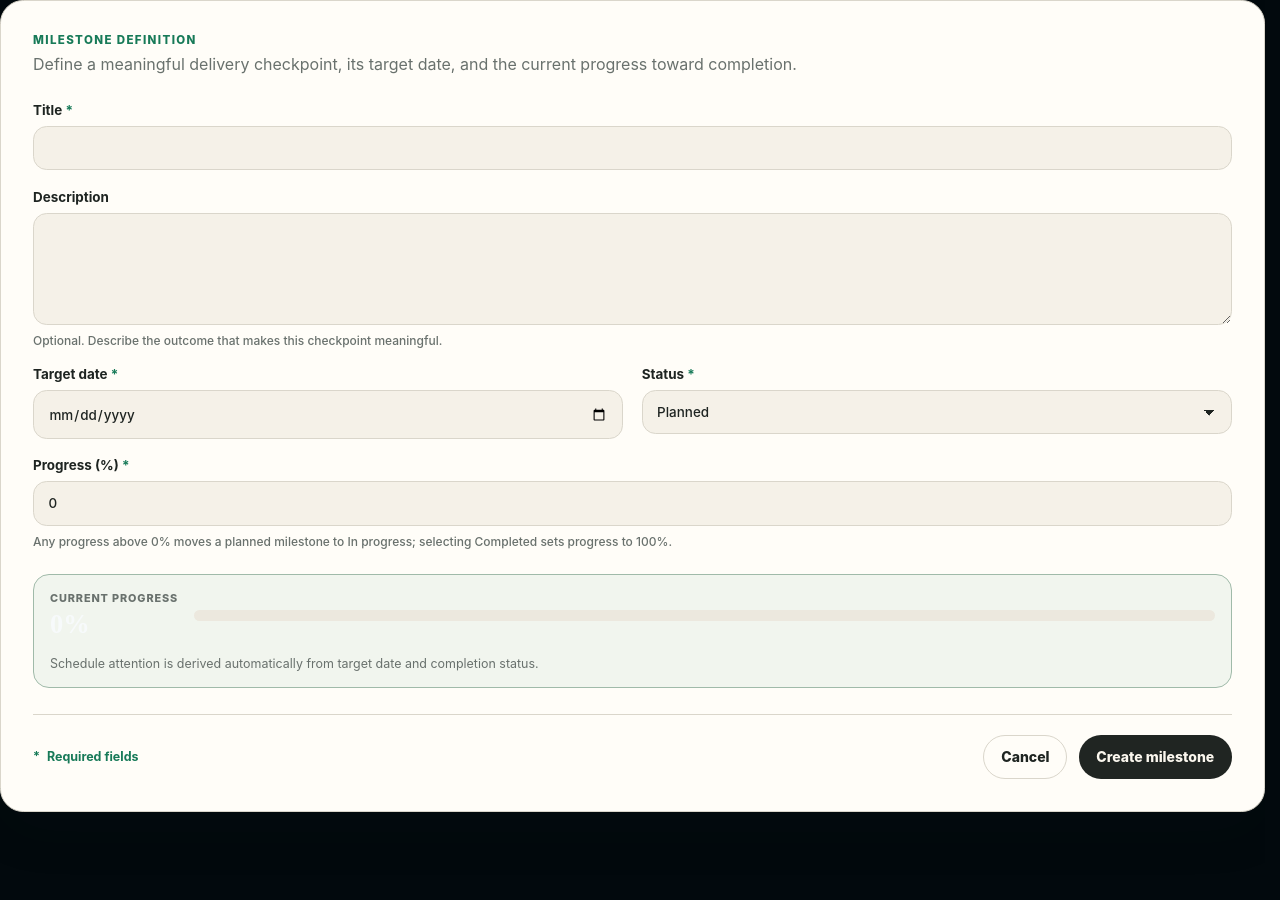
Test case: MilestoneForm › keeps milestone status synchronized with progress
Check: the dropdown labelled "Status *" shows "Planned", box [642, 390, 1232, 434]
Replace the text in the number field labelled "Progress" with "35" at (632,504), box [33, 481, 1232, 526]
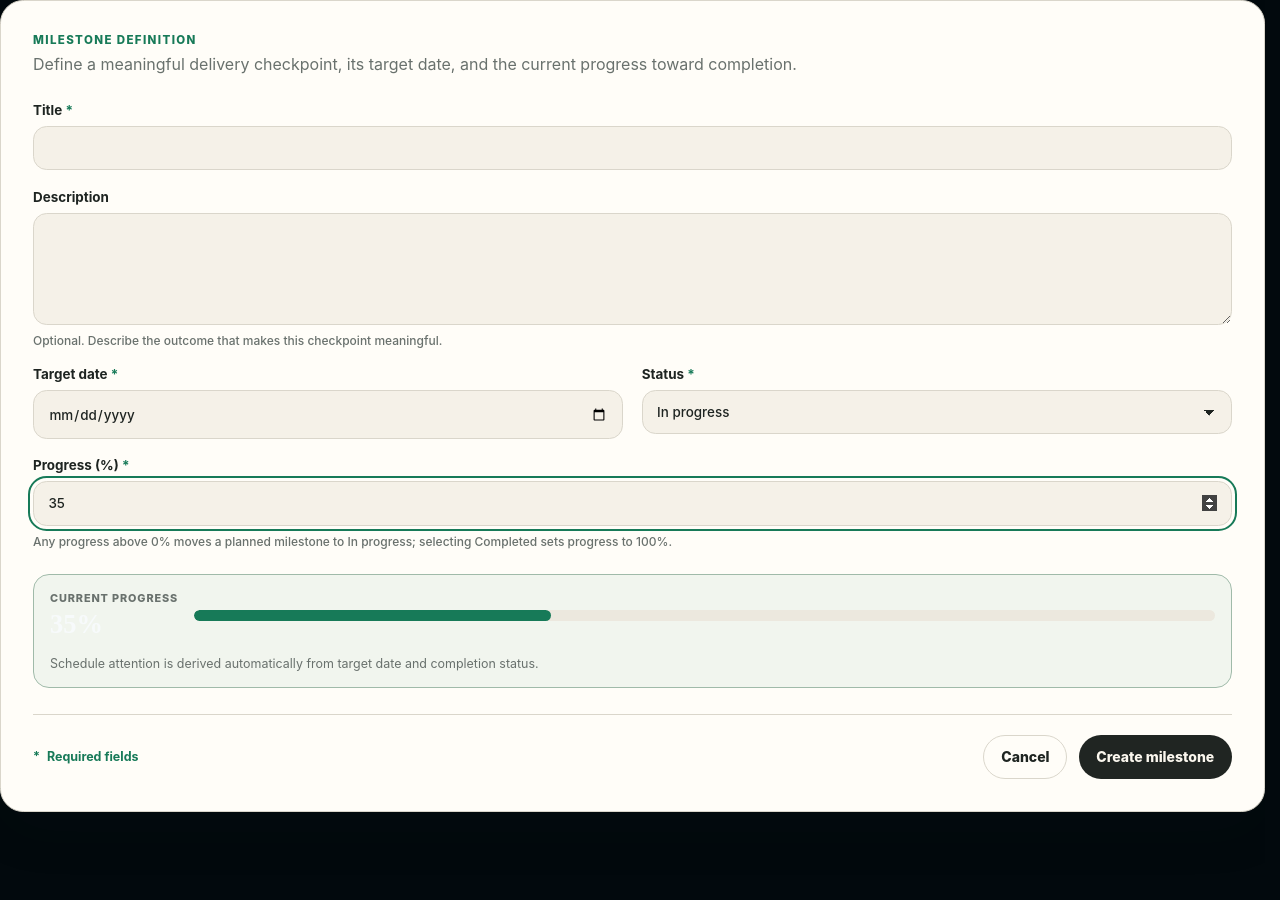
Check: the dropdown labelled "Status *" shows "In progress"
Select "Completed" in the dropdown labelled "Status *" at (937,412), box [642, 390, 1232, 434]
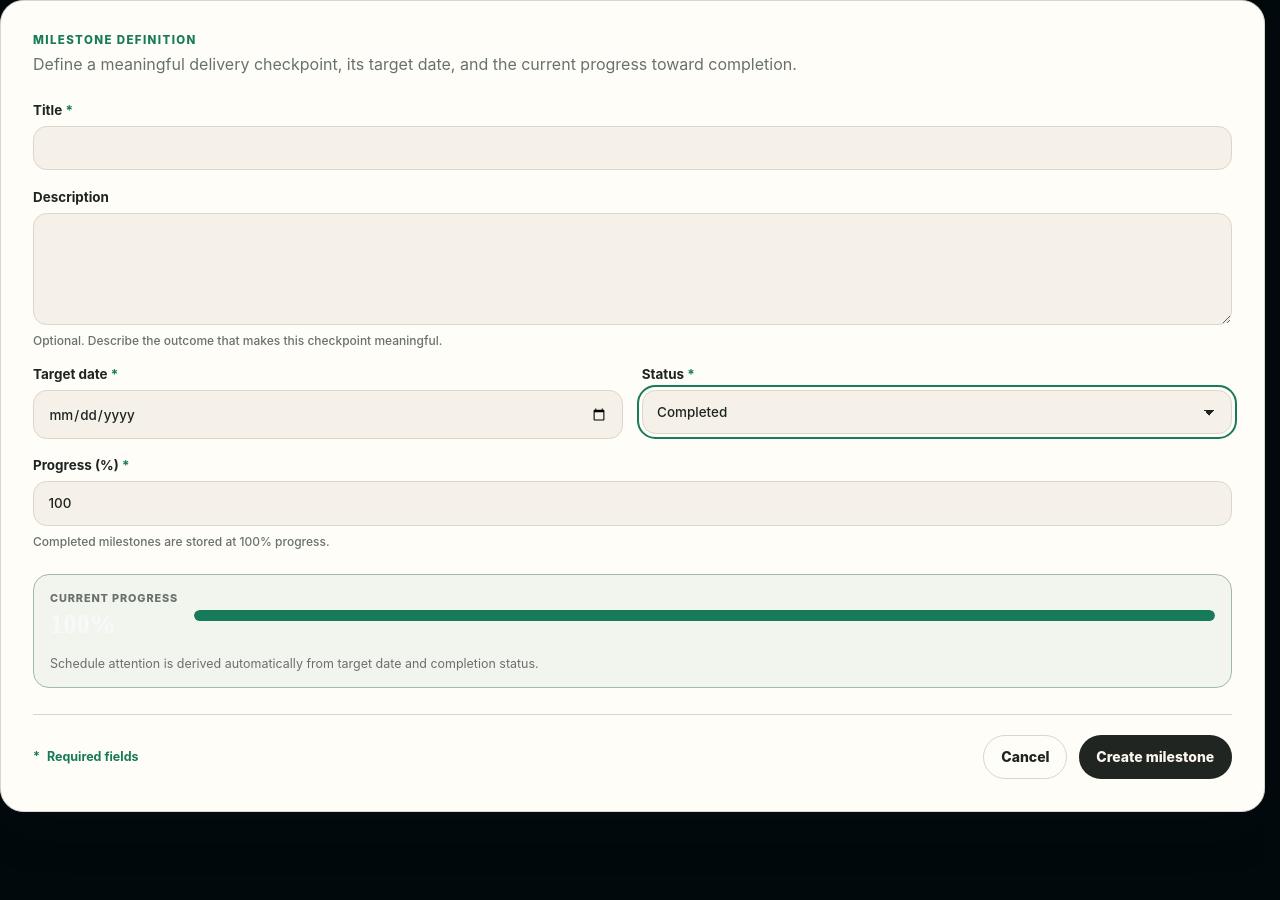
Check: the number field labelled "Progress" holds "100", box [33, 481, 1232, 526]
